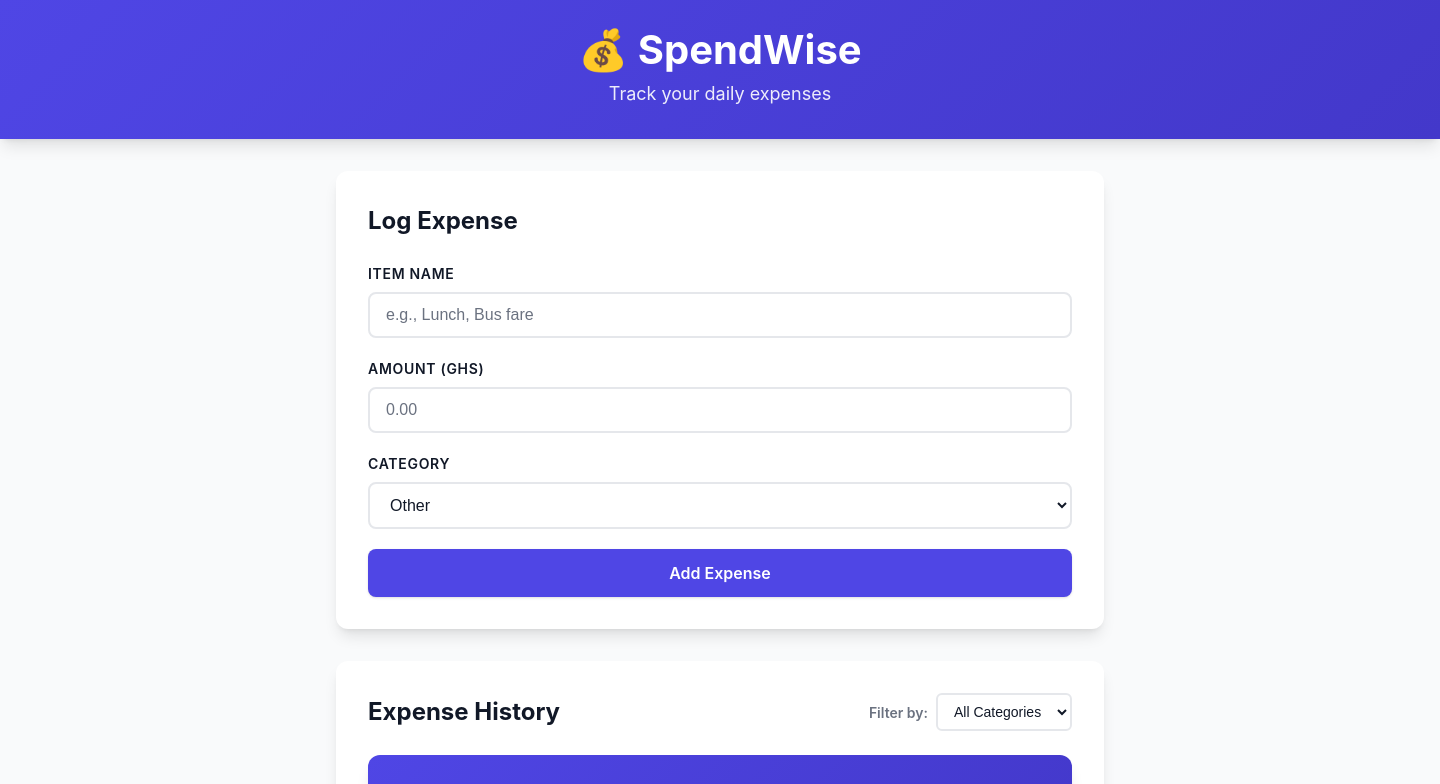
Test: User Story 5: Filter by Category - Frontend UI › Integration: Category with add and delete operations › should maintain filter selection after adding expense
Select "Food" in the dropdown labelled "Filter by:" at (1004, 712), box x1=936 y1=693 x2=1072 y2=731
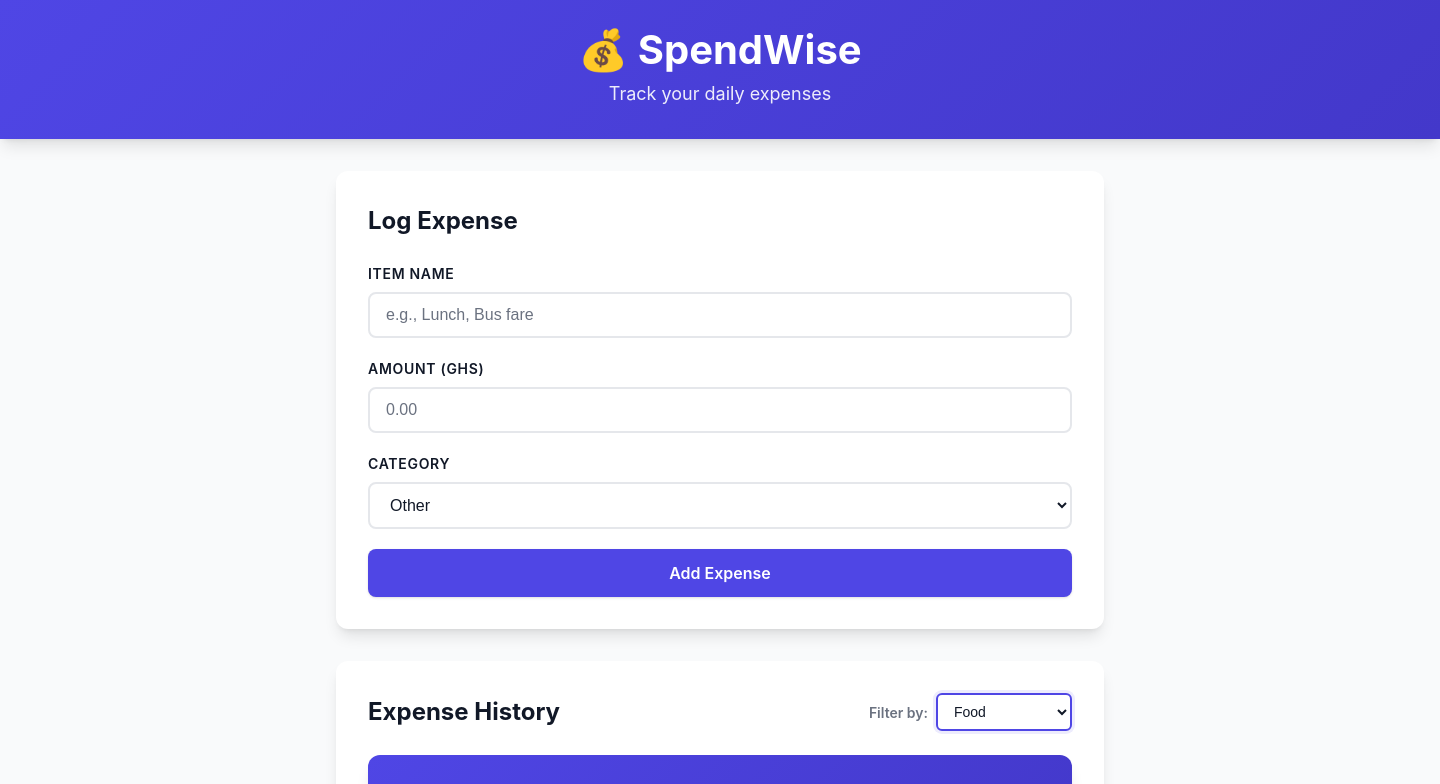
Note: Add new expense
Select "Food" in the dropdown showing "Other" at (720, 506), box x1=368 y1=482 x2=1072 y2=529
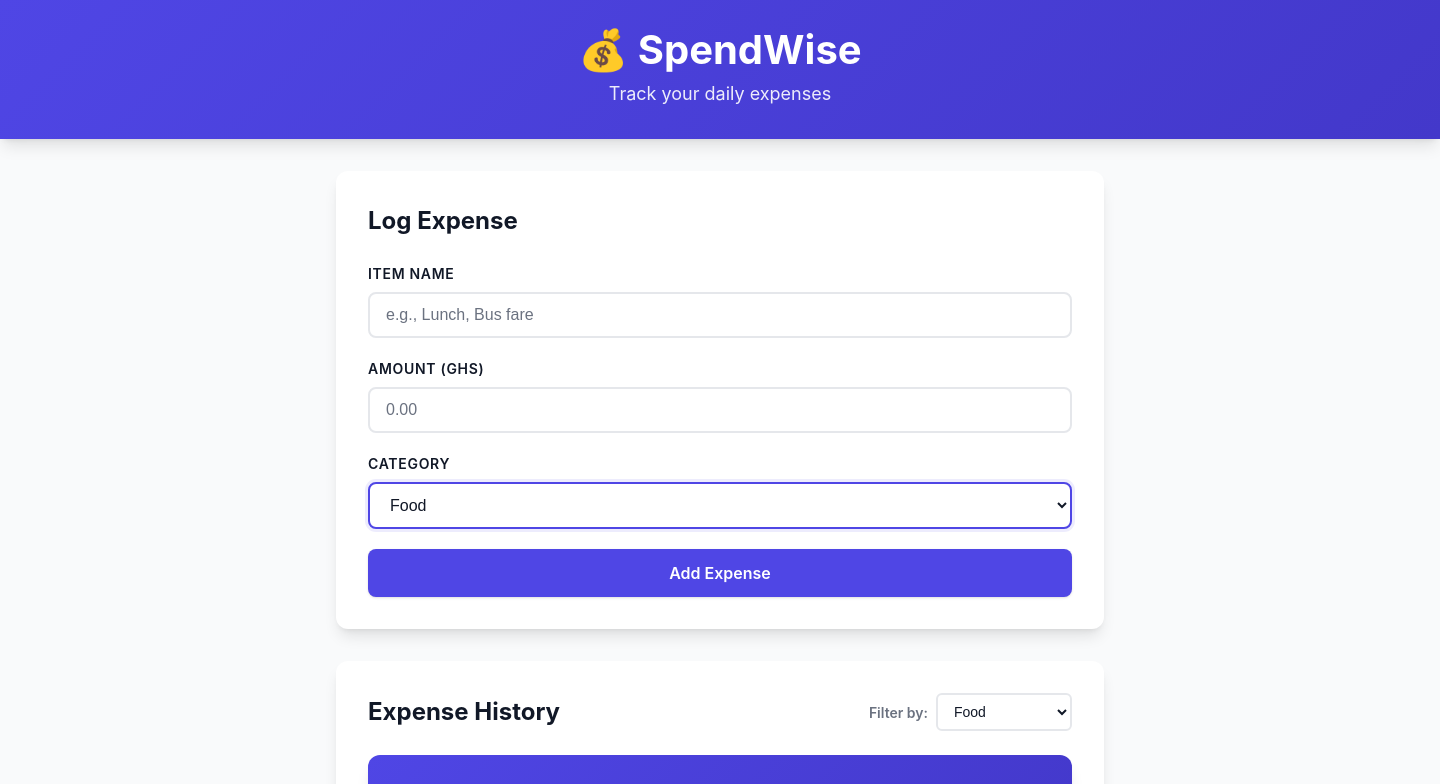
Type "Dinner" into the field labelled "Item Name" at (720, 315), box x1=368 y1=292 x2=1072 y2=338
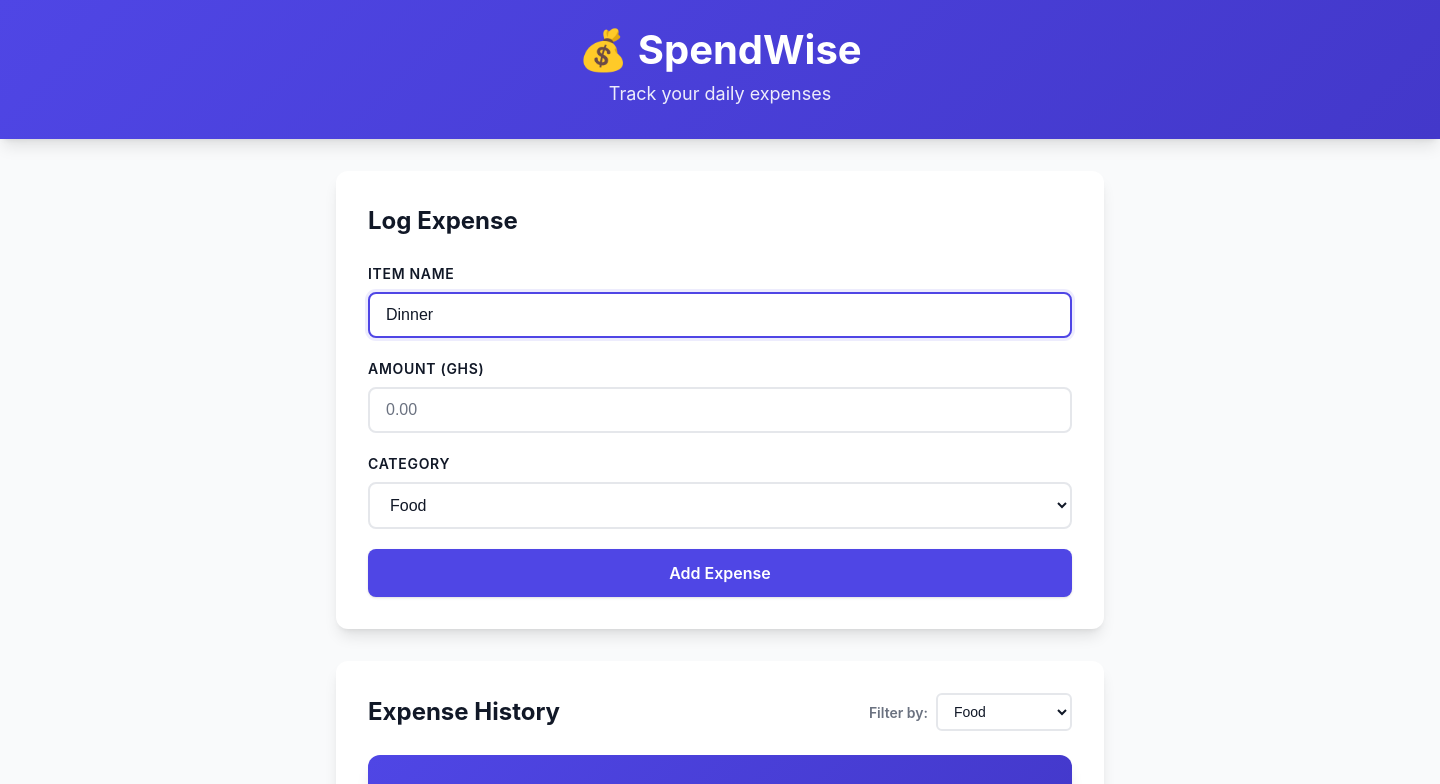
Type "30.00" into the number field labelled "Amount (GHS)" at (720, 410), box x1=368 y1=387 x2=1072 y2=433
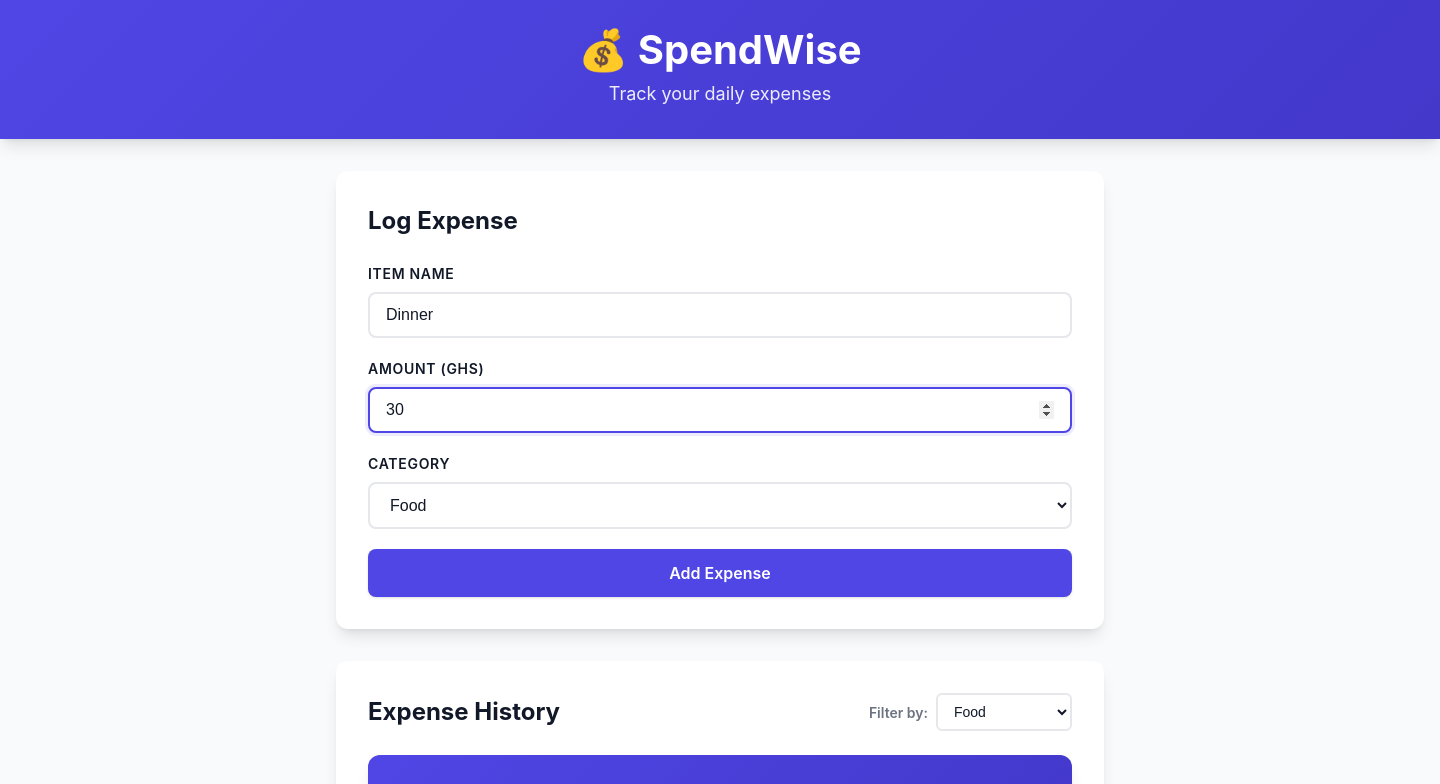
Click the button "Add Expense" at (720, 573), box x1=368 y1=549 x2=1072 y2=597
(page scrolled)
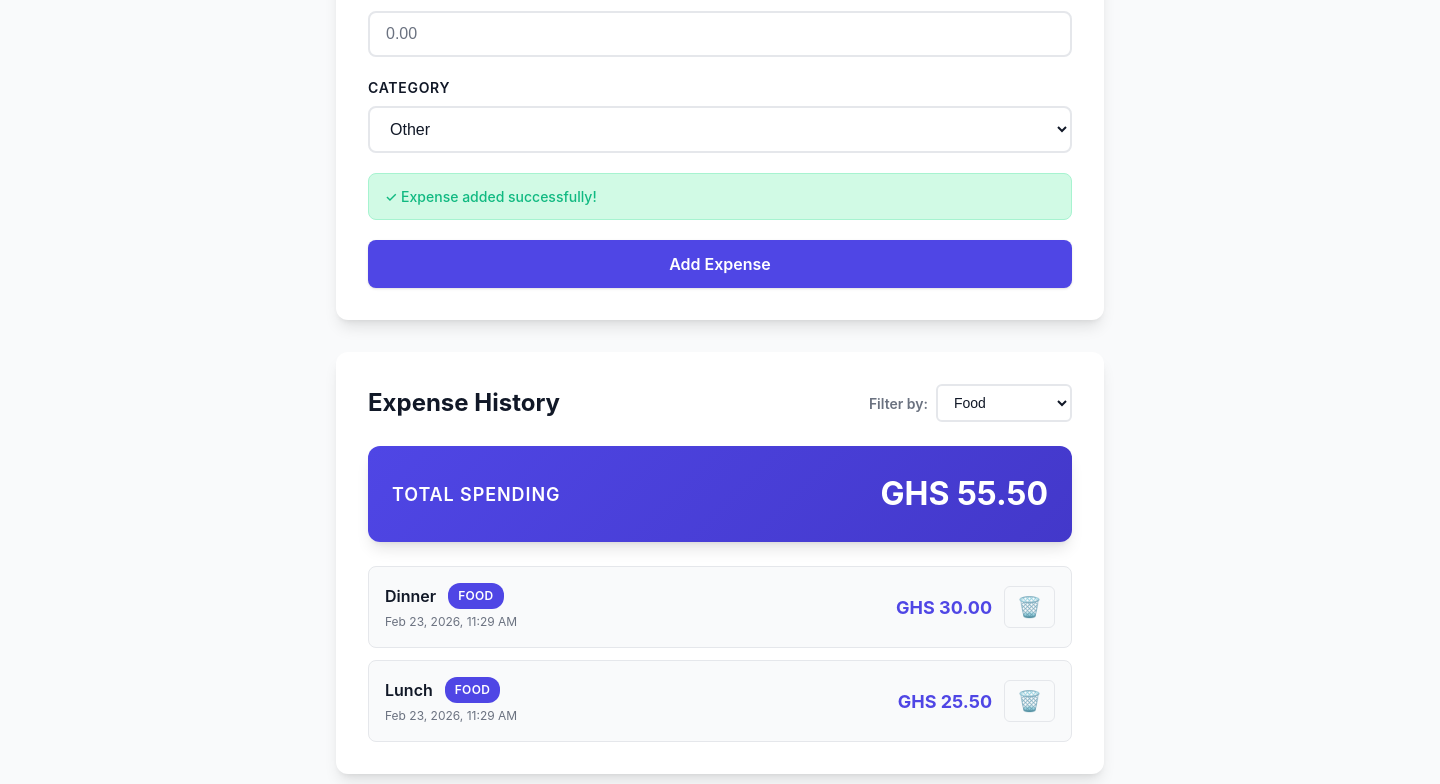
Expected: the text "Lunch" is shown, x1=385 y1=678 x2=433 y2=702
Result: the text "Dinner" is shown at x1=385 y1=584 x2=436 y2=608
